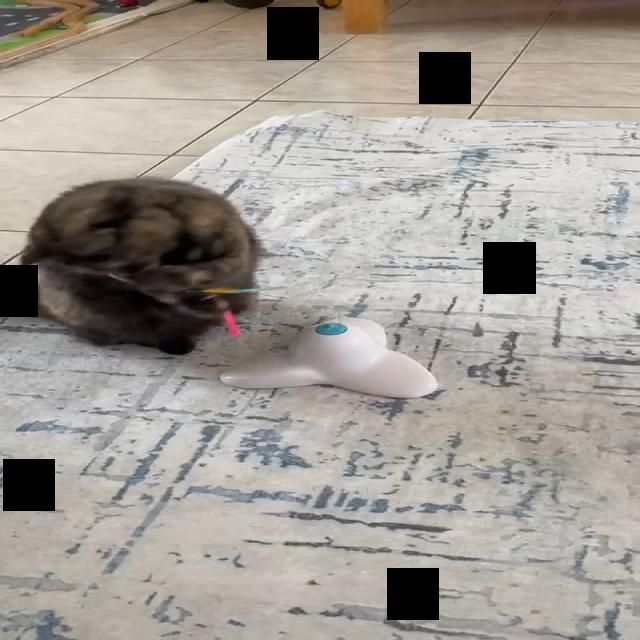authorized: (0, 175, 259, 356)
